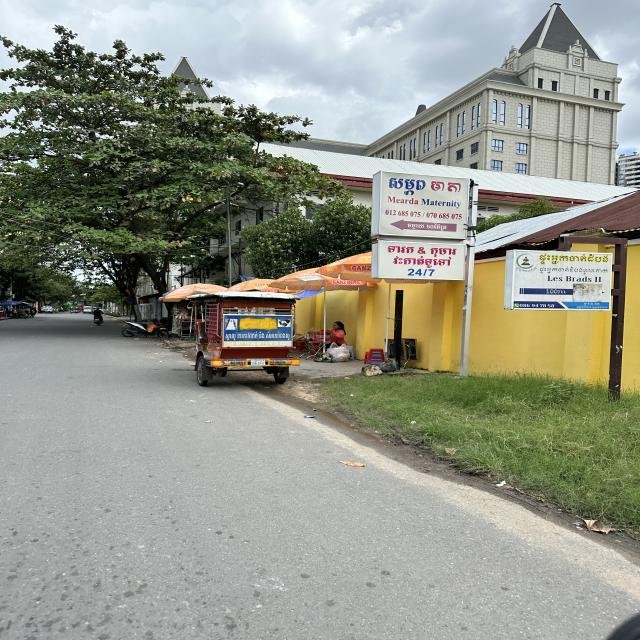1: (386, 176, 463, 195), (386, 240, 460, 255)
Yolov11_80vkh: (536, 253, 610, 266), (388, 256, 454, 267)
